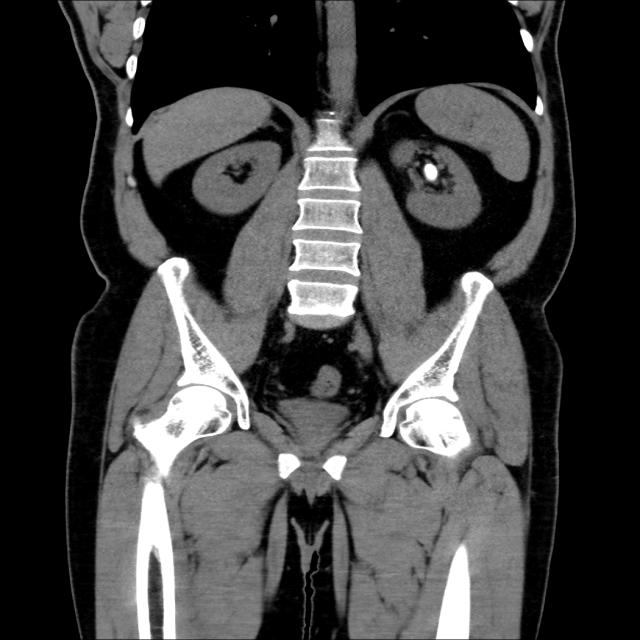kidneystone: (423, 164, 439, 182)
